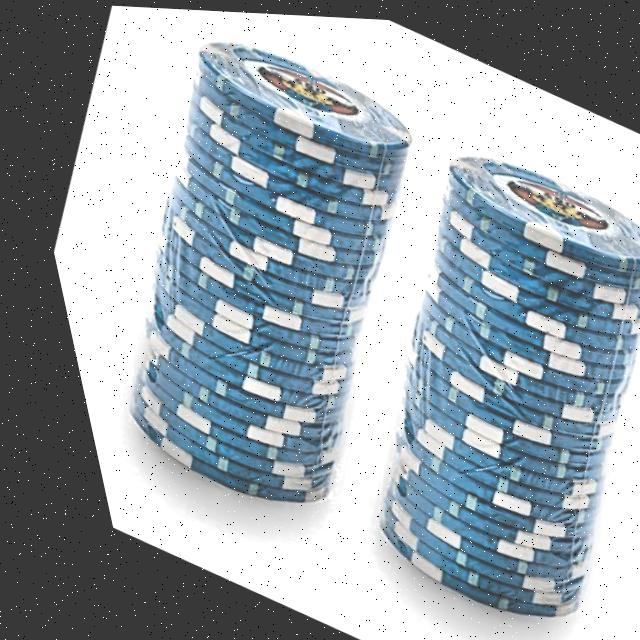Chip: (0, 0, 499, 544), (252, 113, 640, 640)
